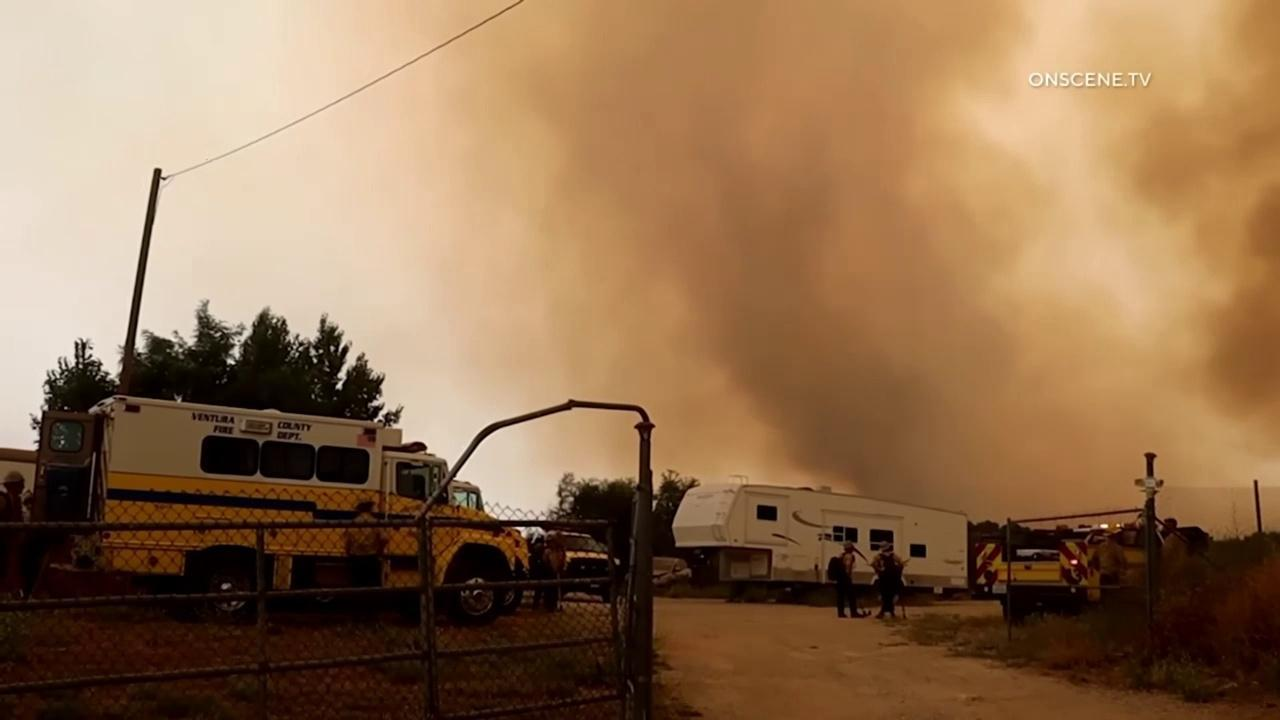smoke: (432, 0, 1280, 540)
